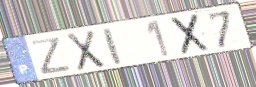1: (144, 18, 171, 59)
7: (207, 8, 233, 49)
I: (100, 26, 124, 66)
X: (169, 12, 212, 57), (65, 28, 107, 73)
Z: (29, 35, 74, 76)
